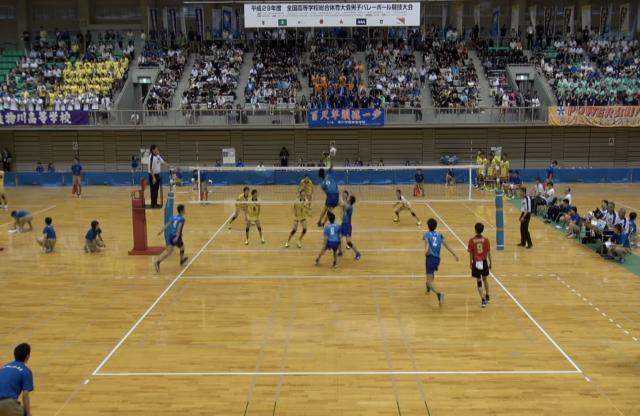spike: (315, 145, 345, 232)
